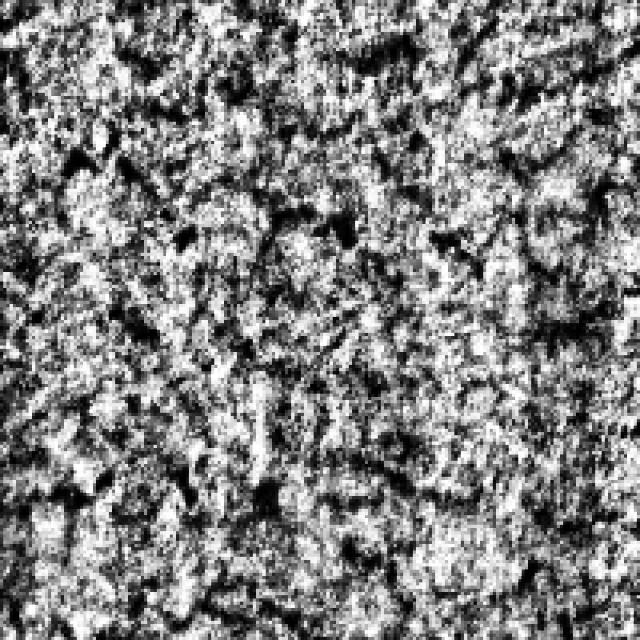Pitted_Surface: (6, 444, 477, 634), (45, 131, 628, 275), (215, 3, 628, 144)
